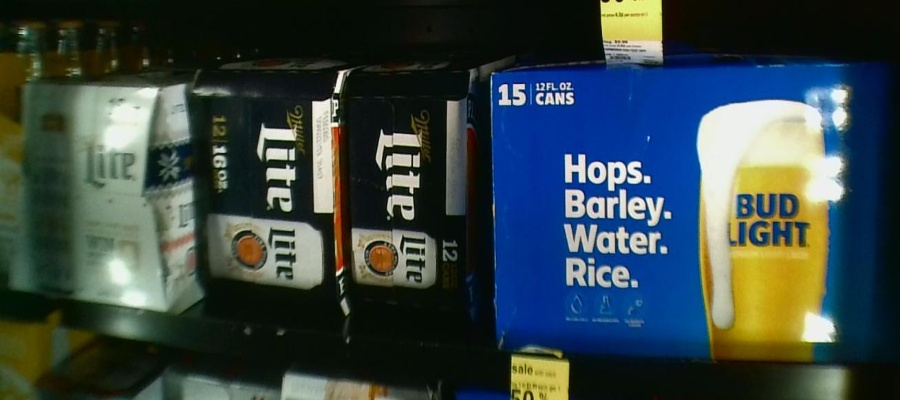bottle: (491, 68, 897, 358), (16, 77, 197, 312), (197, 67, 347, 327), (342, 62, 484, 333)
